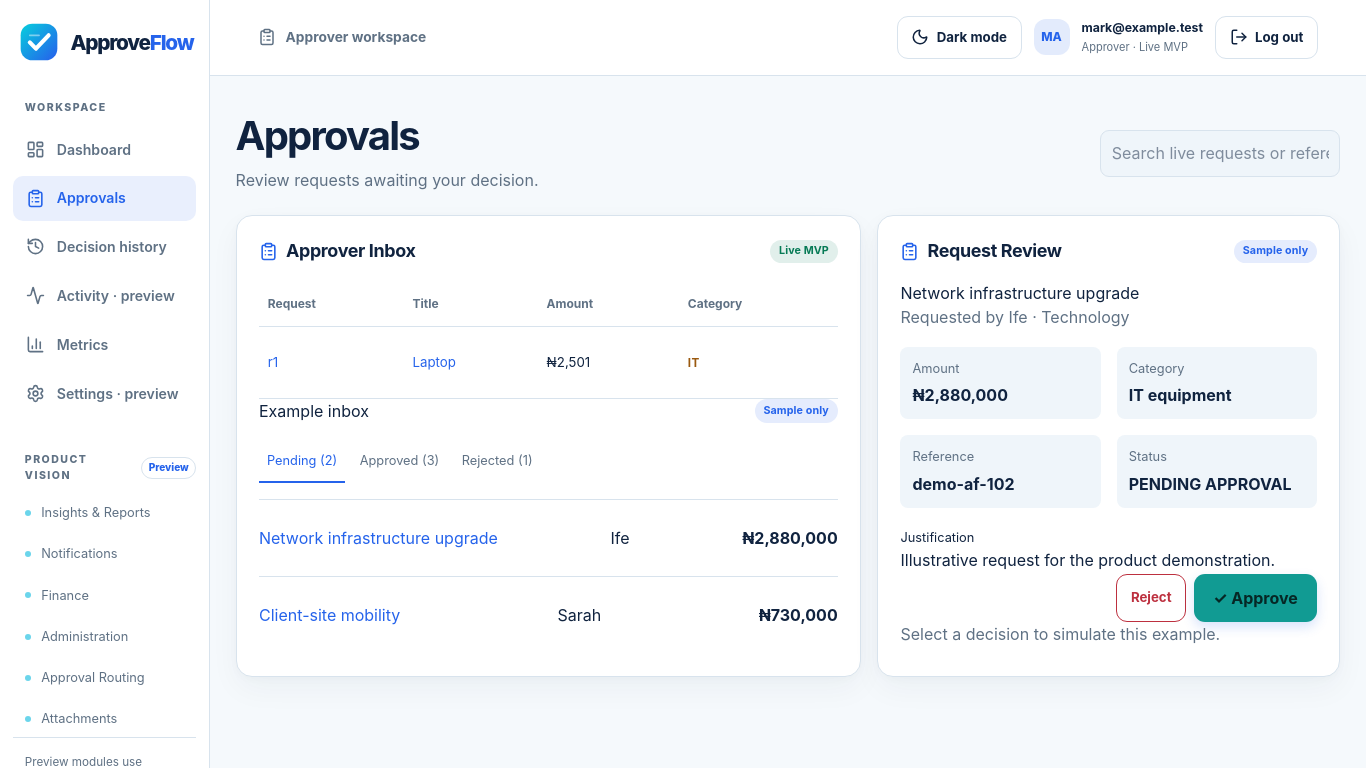
G3 user journeys › shows live history after an approver selects reject from the inbox
Click the button "Laptop". click: [434, 363]
box: [412, 341, 456, 385]
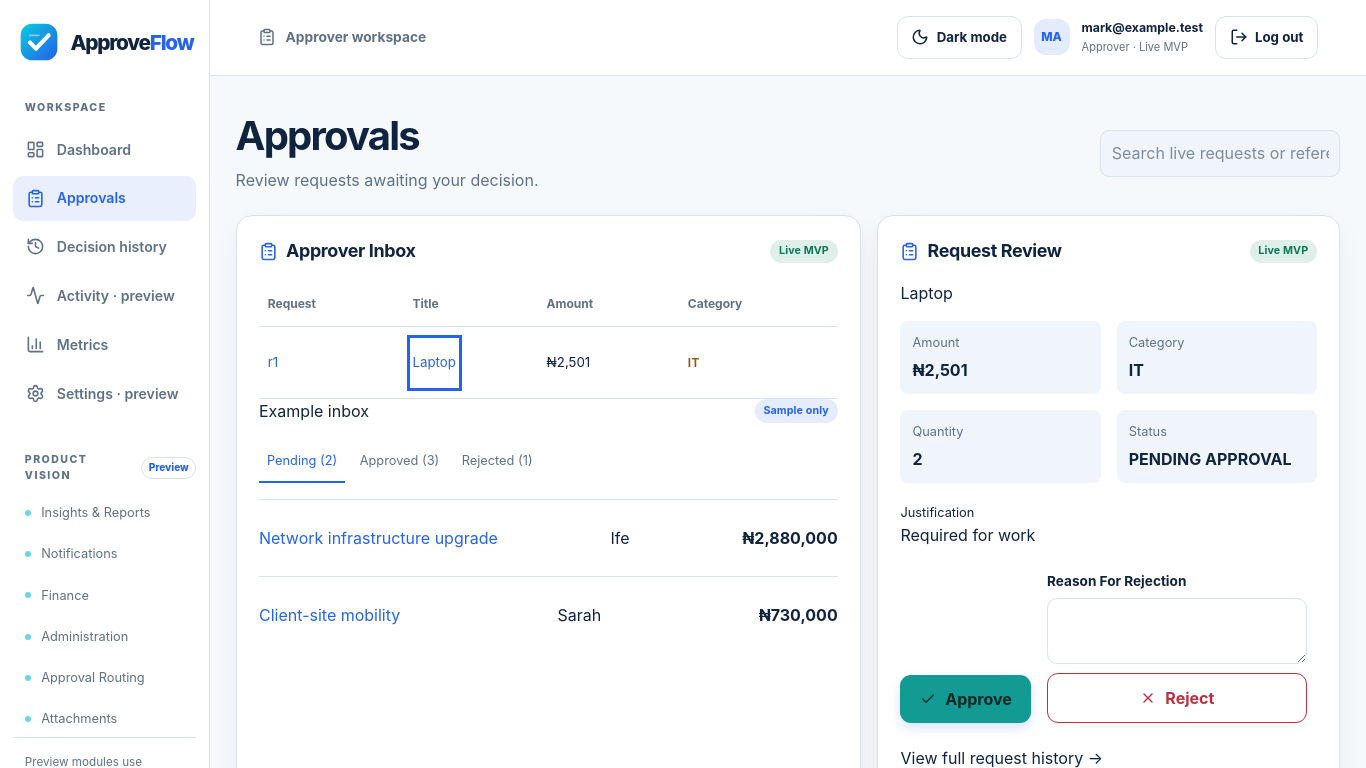
Type "Revise quantity" into the text box labelled "Reason for rejection". click: [1177, 631]
box: [1047, 598, 1307, 664]
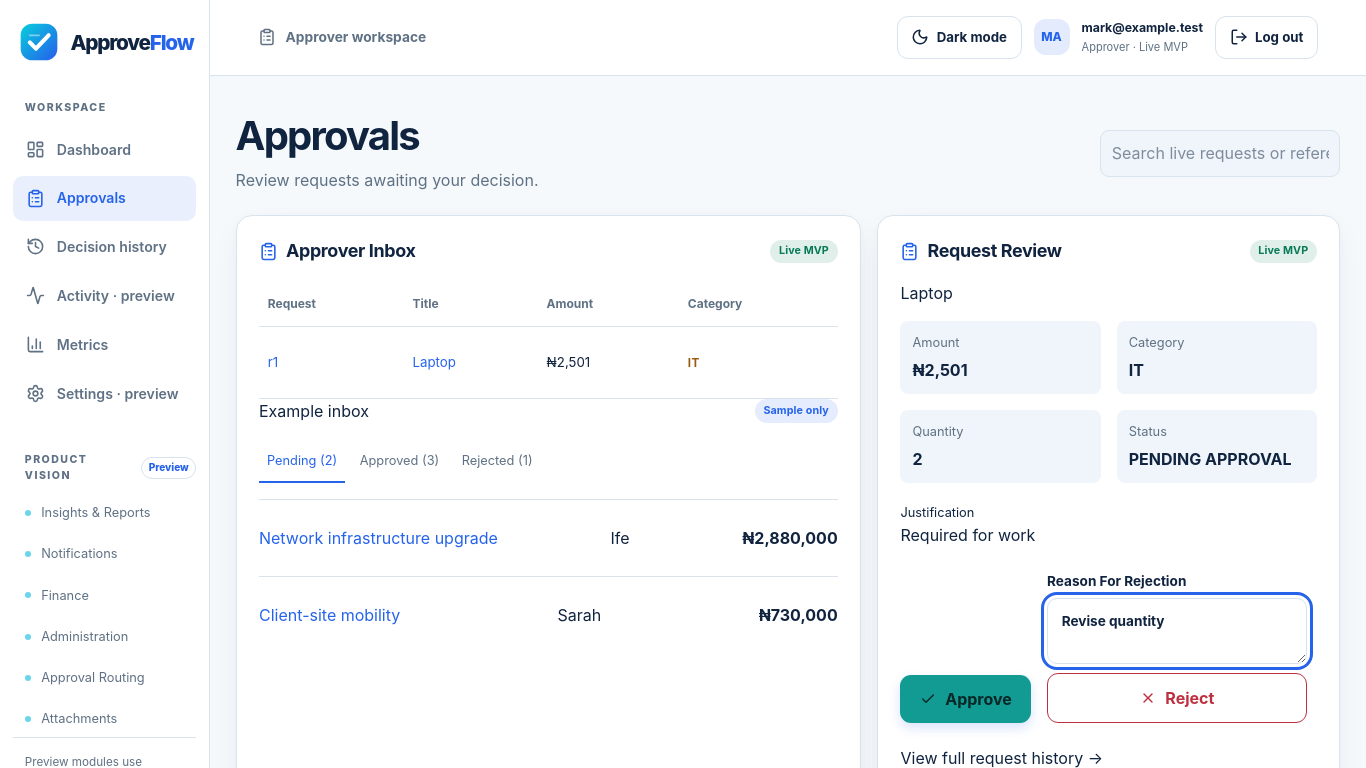
Click the button "Reject". click: [1177, 698]
box: [1047, 673, 1307, 723]
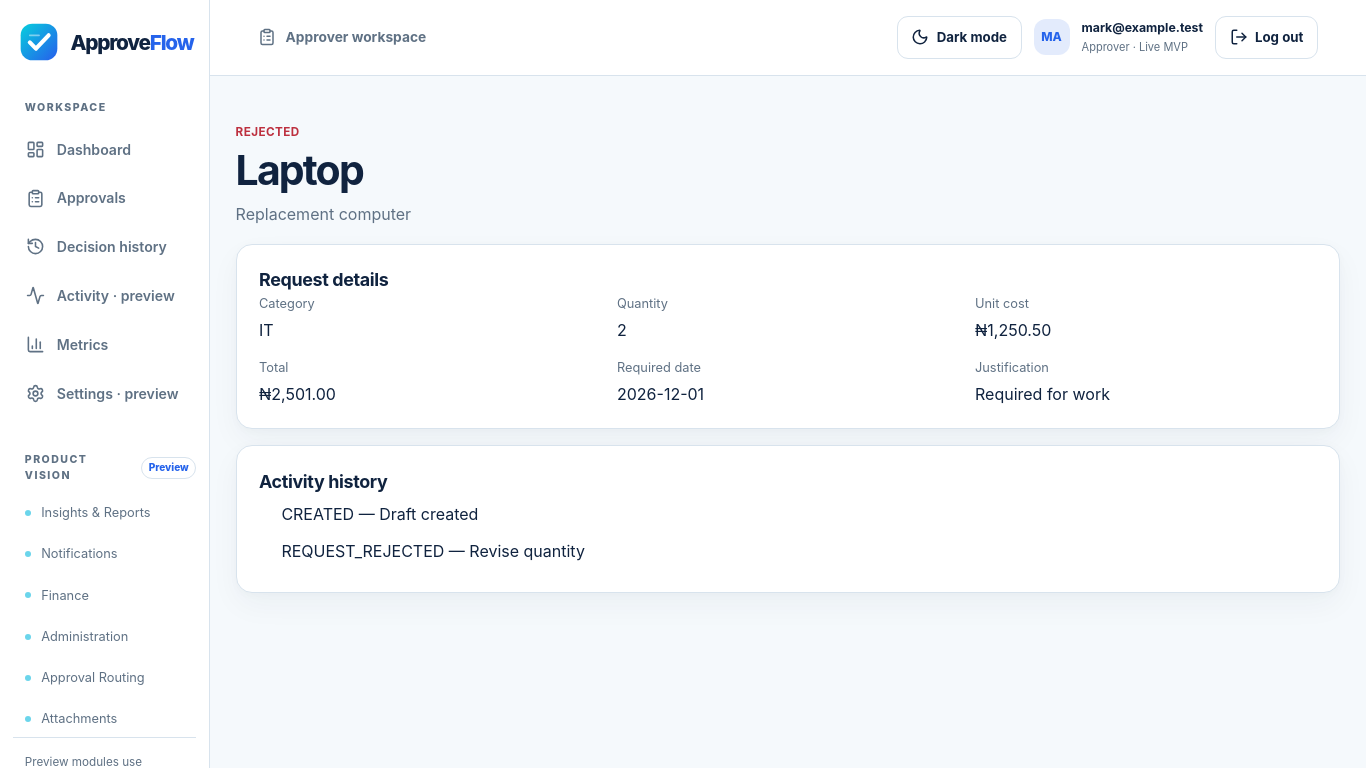
Check: the text "REJECTED" is shown, box [236, 124, 300, 141]
Check: the button "Network infrastructure upgrade" is gone
